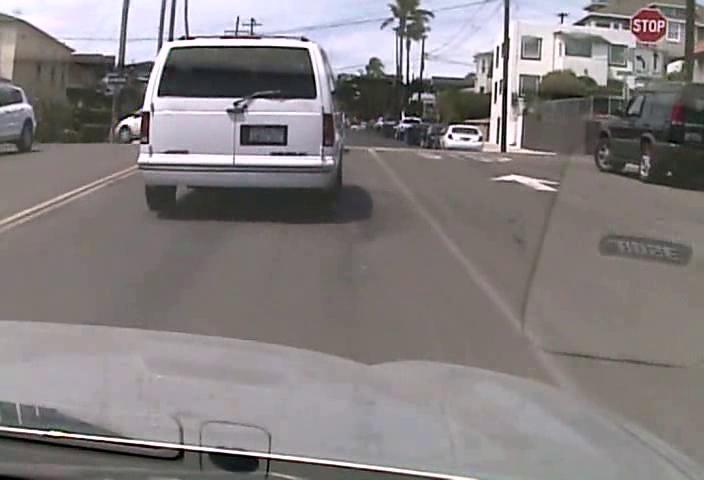stop: (629, 7, 667, 44)
